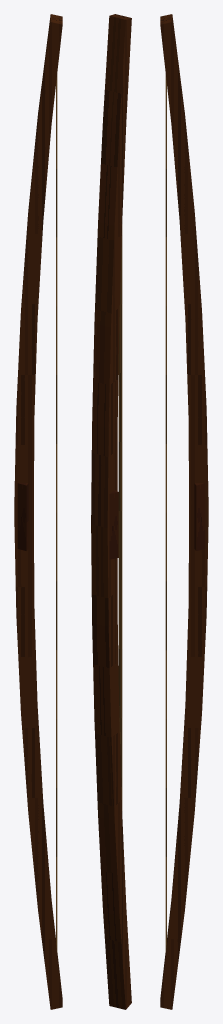
File: arco_largo.glb
The picture shows the model from 3 angles, left to right: view 1: azimuth 90°, elevation 25°; view 2: azimuth 150°, elevation 25°; view 3: azimuth 270°, elevation 25°; orthographic projection.
Parts seen in each view (by area): view 1: palas, cuerda, empunadura; view 2: palas, cuerda, empunadura; view 3: palas, cuerda, empunadura.
Boxes of the visible parts, box(x1,y1,x2,y2) form: palas: box(14, 14, 62, 1009); cuerda: box(56, 74, 57, 953); empunadura: box(17, 483, 28, 550); palas: box(91, 14, 131, 1009); cuerda: box(118, 224, 122, 810); empunadura: box(109, 490, 118, 559); palas: box(160, 14, 208, 1009); cuerda: box(165, 74, 166, 953); empunadura: box(194, 483, 205, 550).
Bounding box in the file's own units: 0.05 × 1.8 × 0.08.
1 material, 1 textured.
